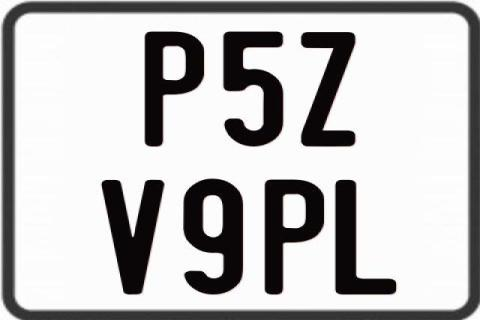0: (183, 178, 249, 298), (223, 31, 285, 151)
L: (332, 178, 394, 294)
P: (144, 30, 206, 146), (266, 178, 326, 296)
V: (99, 179, 165, 297)
Z: (301, 32, 360, 146)
